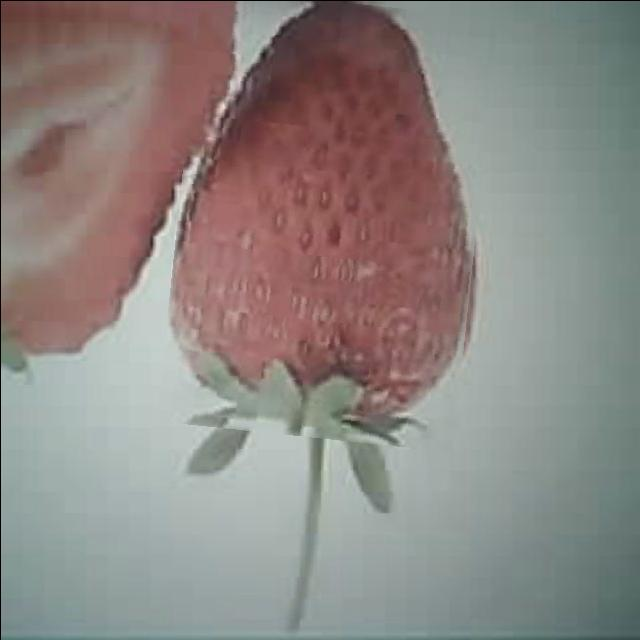strawberry: (166, 0, 486, 444)
